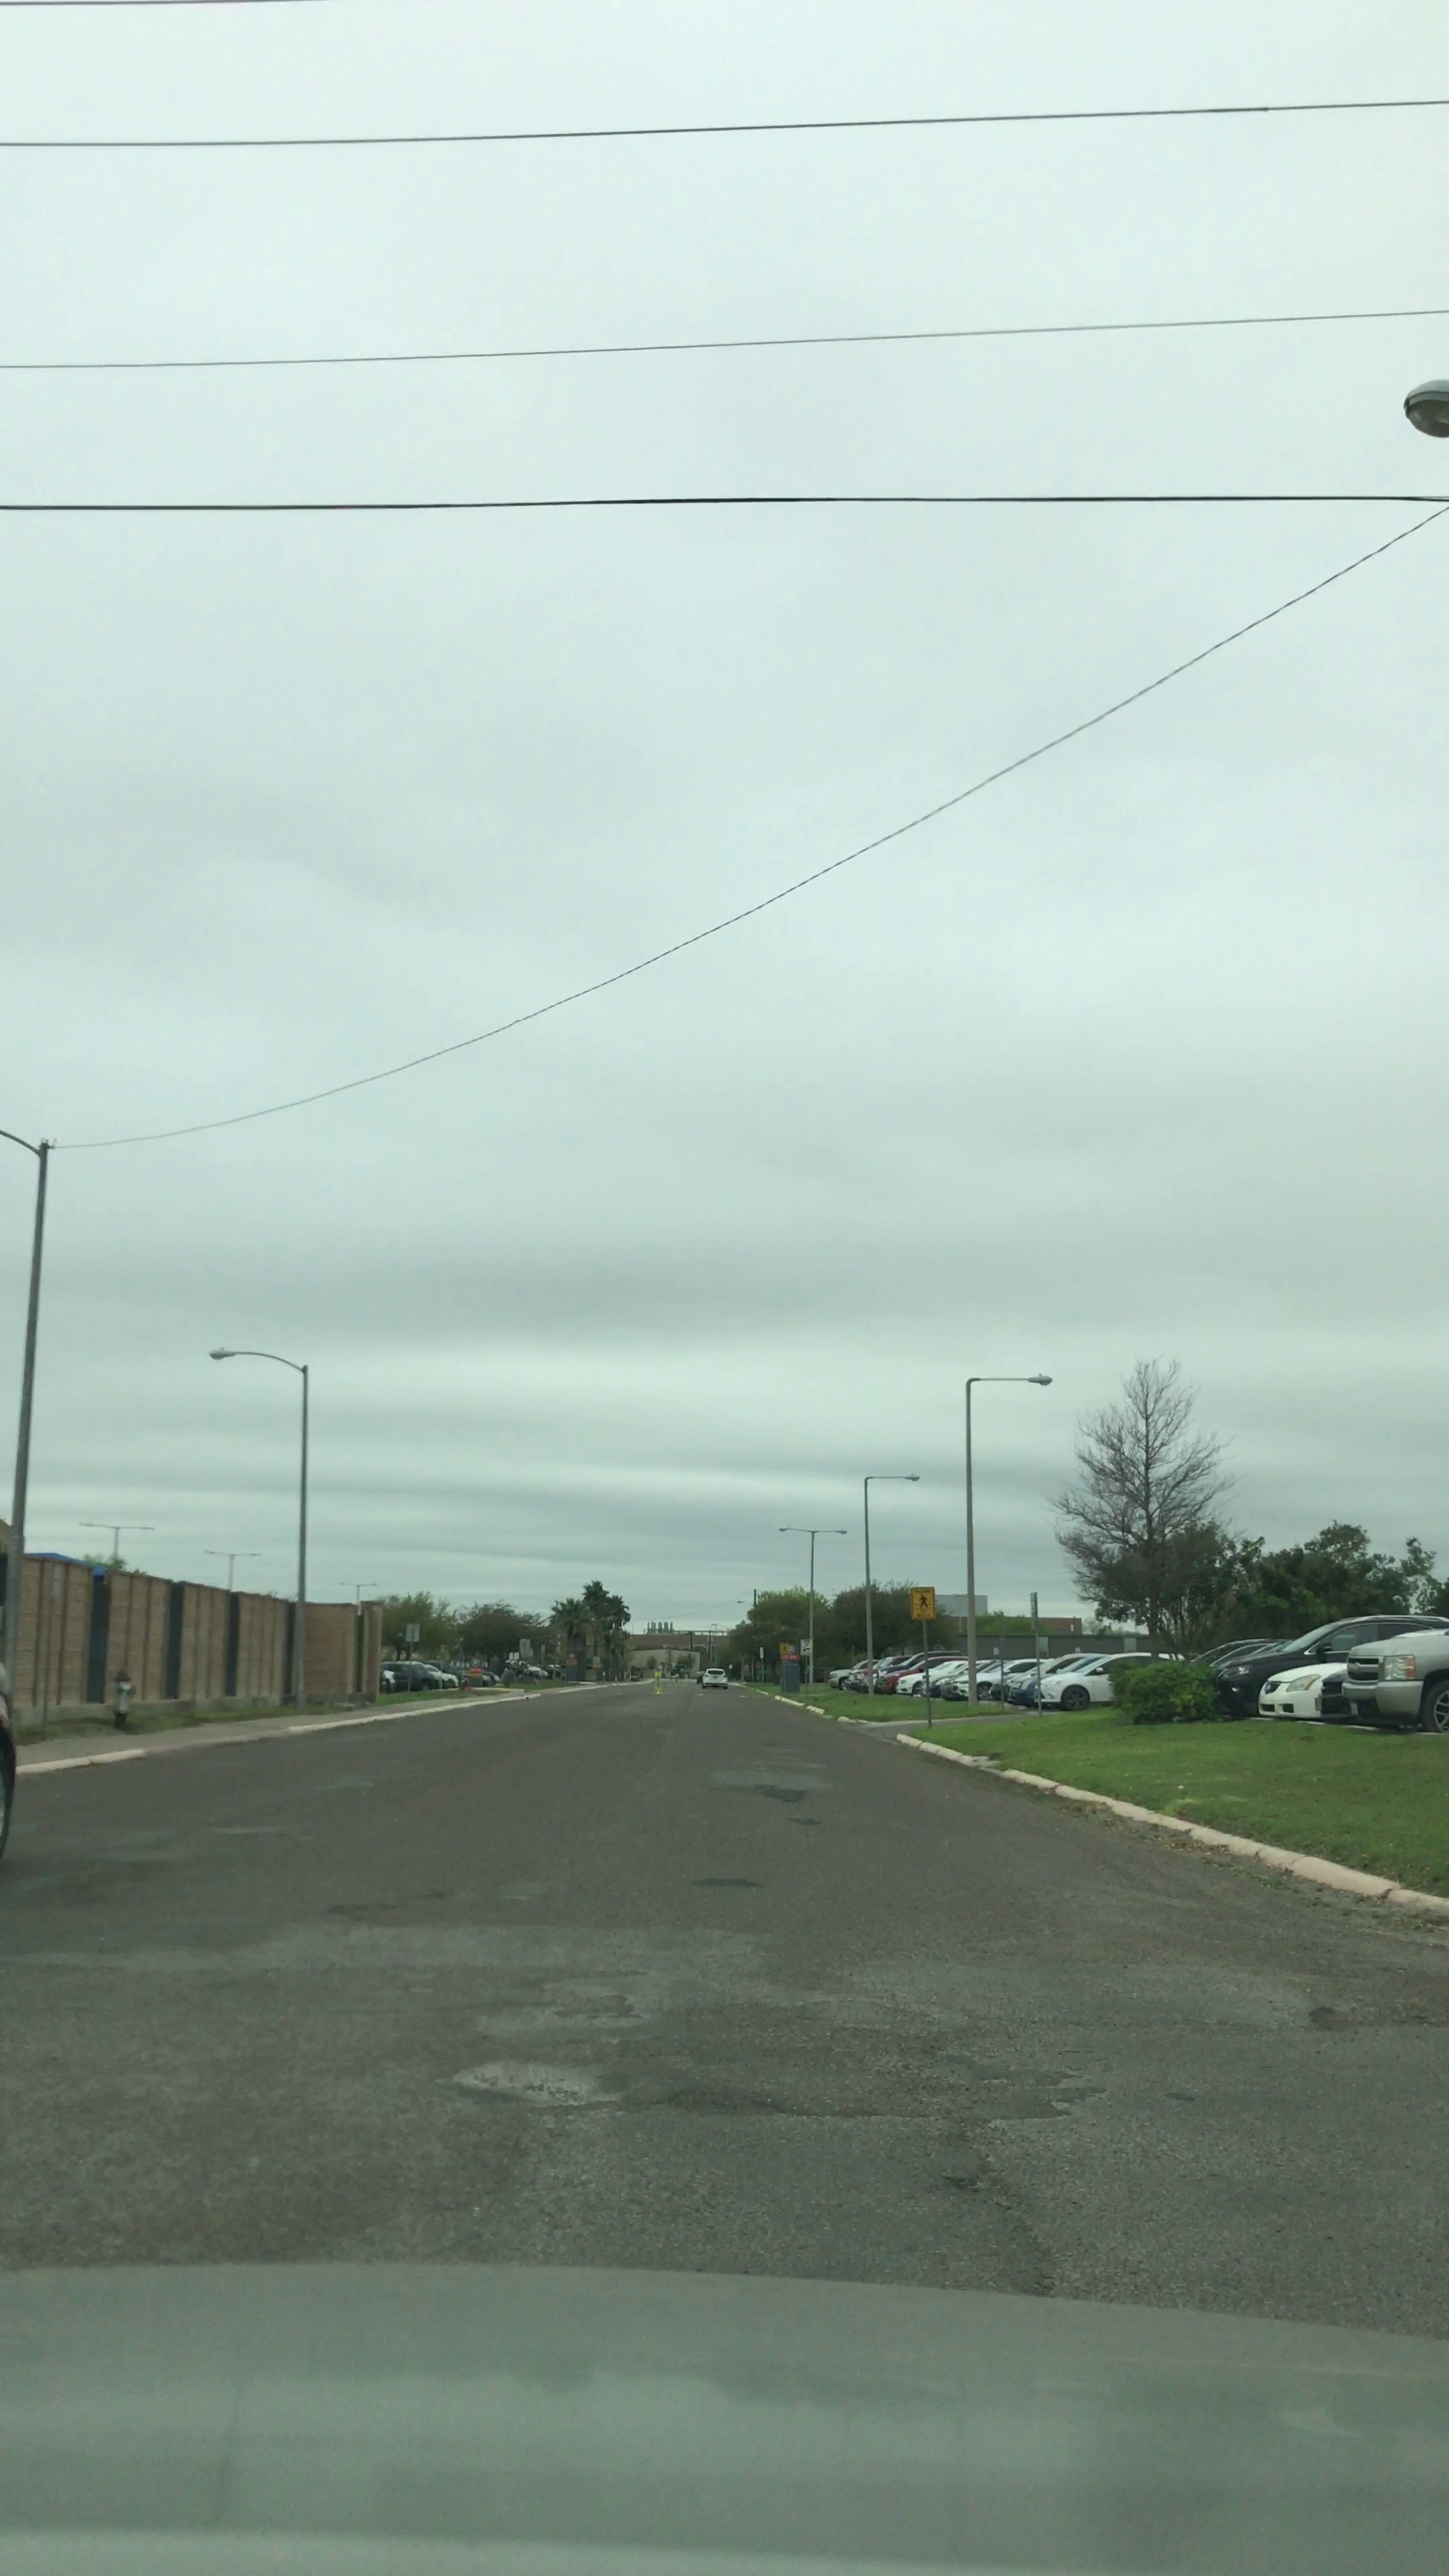crack: (616, 2066, 982, 2139)
